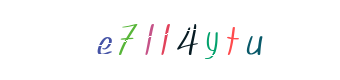4: (143, 0, 223, 80)
7: (109, 0, 189, 80)
E: (87, 0, 167, 80)
L: (129, 0, 209, 80), (135, 0, 215, 80)
T: (148, 0, 228, 80)
U: (194, 0, 274, 80)
Y: (147, 0, 227, 80)
